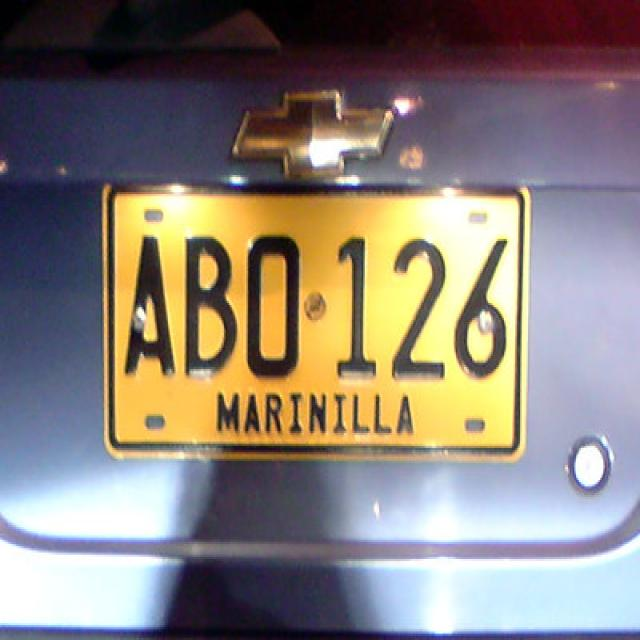placa_carro: (90, 165, 566, 490)
